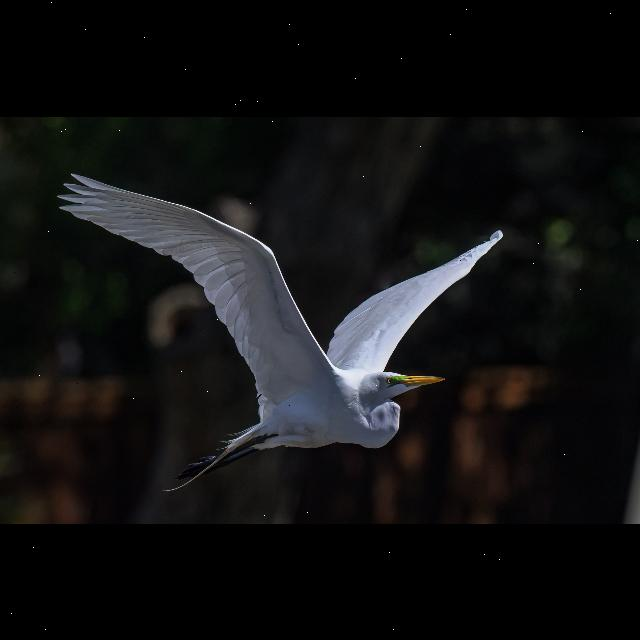egret: (51, 163, 512, 504)
